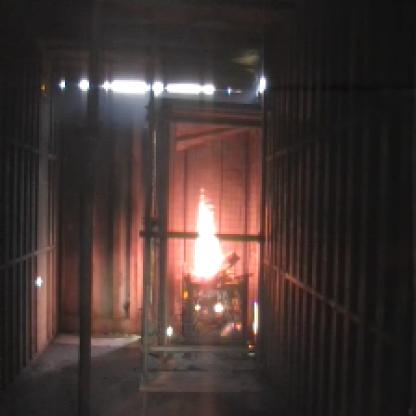Fire: (171, 182, 260, 351)
